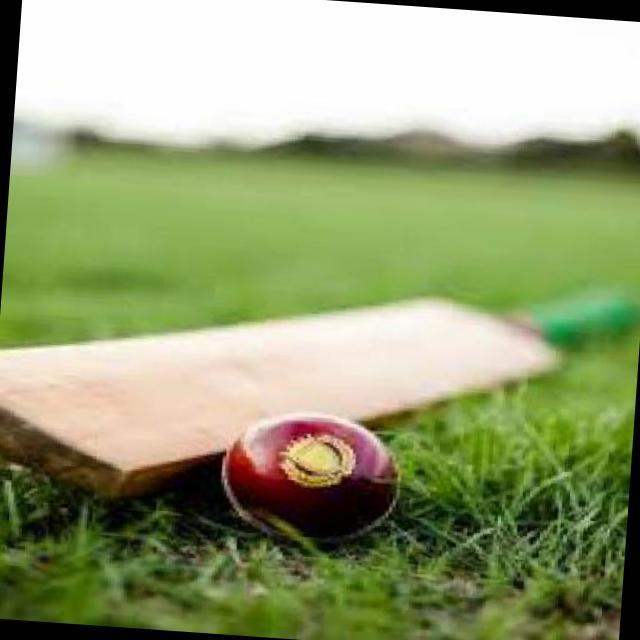-: (223, 402, 408, 551)
